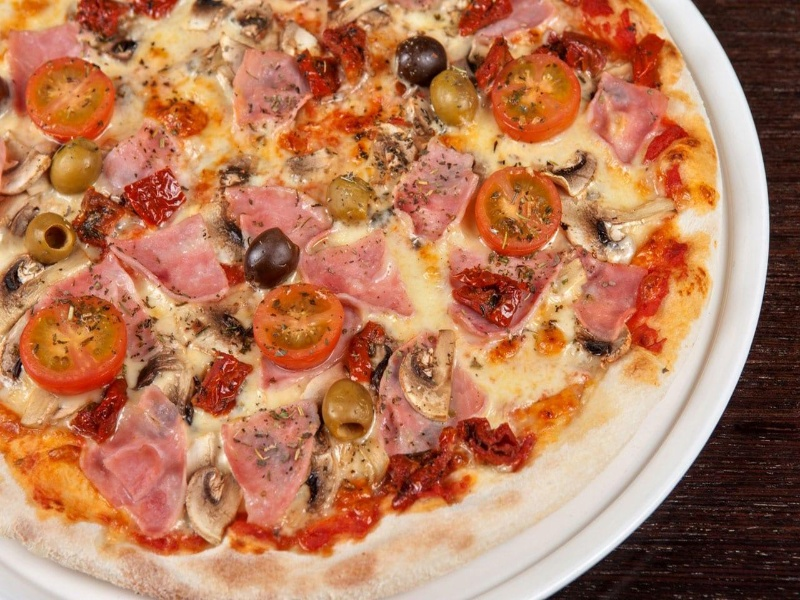champignon: (388, 327, 462, 424), (179, 466, 249, 551)
olive: (231, 223, 312, 297), (14, 209, 85, 276), (315, 373, 381, 444), (37, 137, 109, 199), (318, 171, 383, 227), (387, 34, 450, 89), (429, 69, 479, 132)
